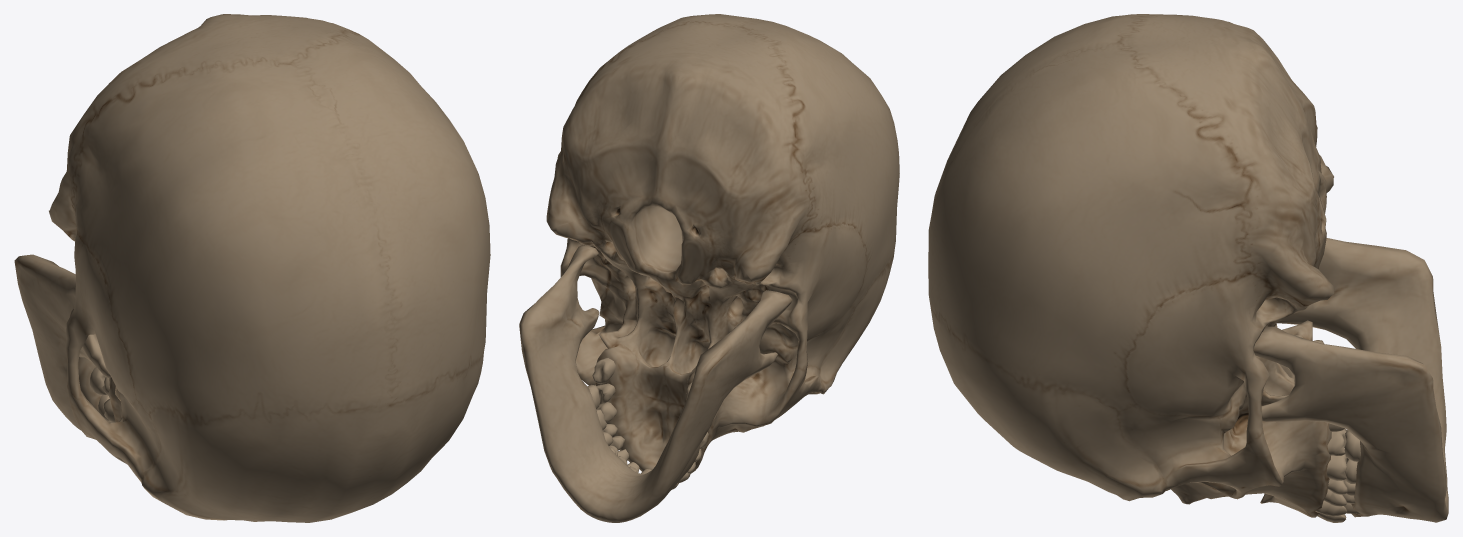
File: Male_Human_Skull_convert.obj
The picture shows the model from 3 angles, left to right: view 1: azimuth 30°, elevation 25°; view 2: azimuth 150°, elevation 25°; view 3: azimuth 270°, elevation 25°; orthographic projection. The views are drawn at different scales.
Visible parts, largest first — view 1: Skull_pivot, Teeth_pivot; view 2: Skull_pivot, Teeth_pivot; view 3: Skull_pivot, Teeth_pivot.
Boxes of the visible parts, x1=… form: Skull_pivot: x1=14, y1=14, x2=490, y2=522; Teeth_pivot: x1=90, y1=367, x2=115, y2=423; Skull_pivot: x1=519, y1=14, x2=899, y2=522; Teeth_pivot: x1=587, y1=358, x2=708, y2=489; Skull_pivot: x1=928, y1=14, x2=1448, y2=522; Teeth_pivot: x1=1315, y1=423, x2=1360, y2=522.
Size of the model in its own units: 15.97 by 22.94 by 22.67.
Materials: 2 (1 with a texture image).
